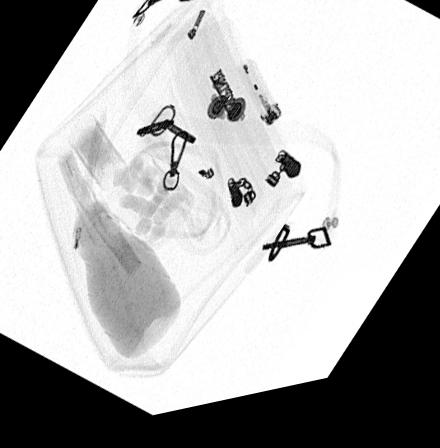Lighter: (231, 69, 281, 140)
